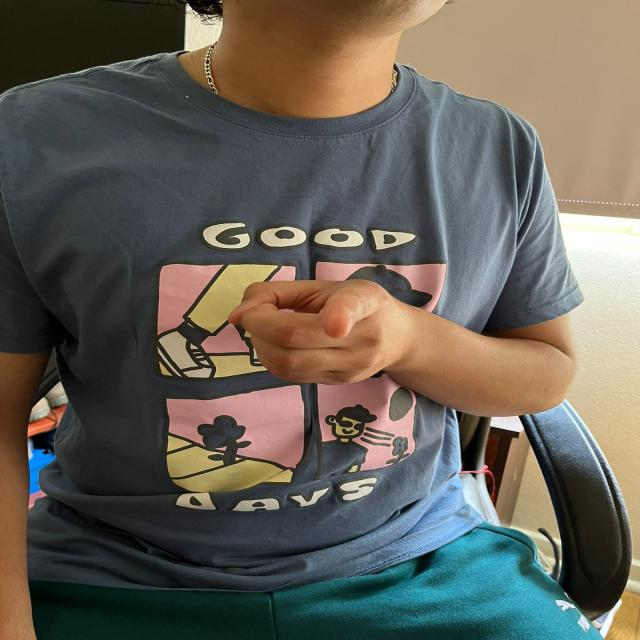X: (231, 268, 405, 397)
